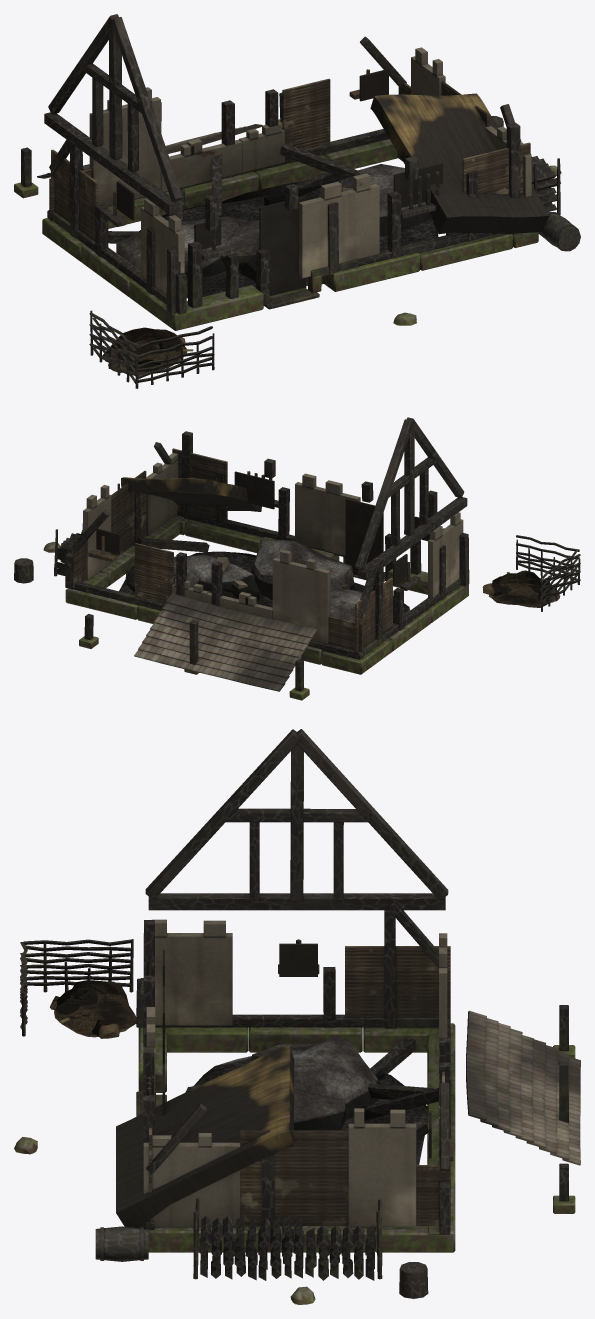
Rendered from house_b_ruin.glb.
The picture shows the model from 3 angles, top to bottom: view 1: azimuth 30°, elevation 25°; view 2: azimuth 150°, elevation 25°; view 3: azimuth 270°, elevation 25°; orthographic projection. The views are drawn at different scales.
Visible parts, largest first — view 1: house_b_ruin_LOD0; view 2: house_b_ruin_LOD0; view 3: house_b_ruin_LOD0.
Boxes of the visible parts, x1,y1,x2,y2 form: house_b_ruin_LOD0: (14, 14, 580, 388); house_b_ruin_LOD0: (14, 417, 580, 700); house_b_ruin_LOD0: (14, 729, 580, 1304).
Size of what is drawn, in the model's own units: 12.13 by 5.66 by 9.24.
1 material, 1 textured.
